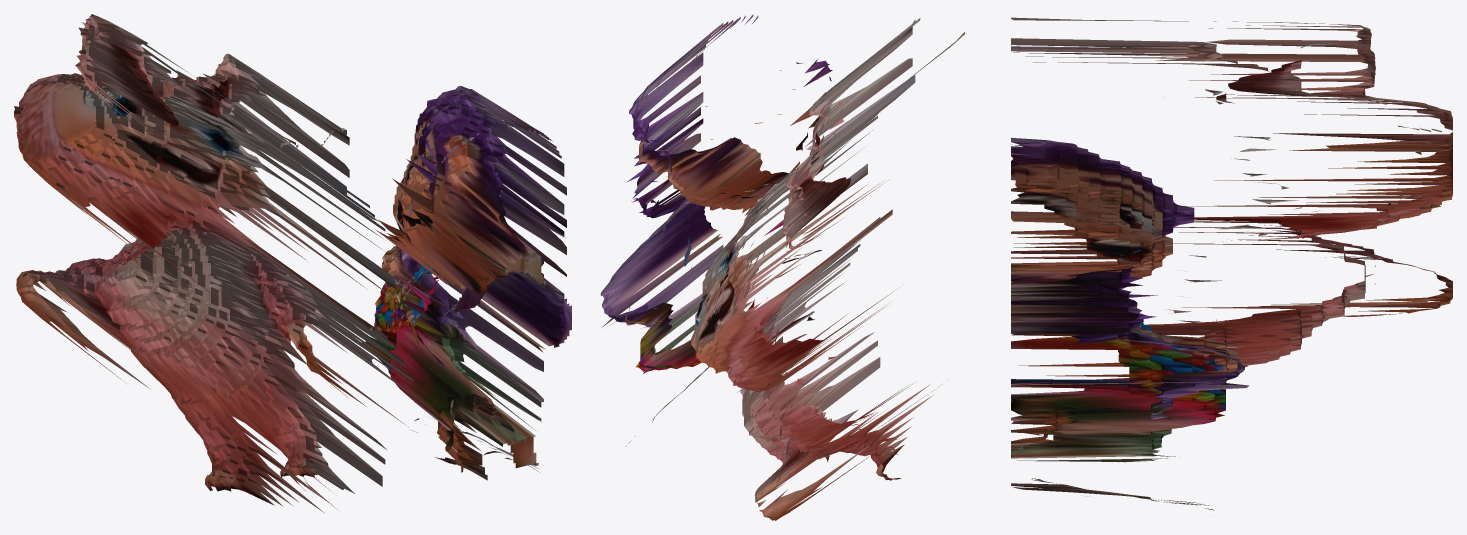
Rendered from frame_00077.glb.
3 renders of one model, left to right at view 1: azimuth 30°, elevation 25°; view 2: azimuth 150°, elevation 25°; view 3: azimuth 270°, elevation 25°, orthographic. The views are drawn at different scales.
Parts seen in each view (by area): view 1: geometry_0; view 2: geometry_0; view 3: geometry_0.
Boxes of the visible parts, <box> form: geometry_0: <box>14,14,571,512</box>; geometry_0: <box>600,14,964,520</box>; geometry_0: <box>1011,17,1452,510</box>.
Size of the model in its own units: 0.1248 by 0.1566 by 0.16.
Materials: 1 (1 with a texture image).
